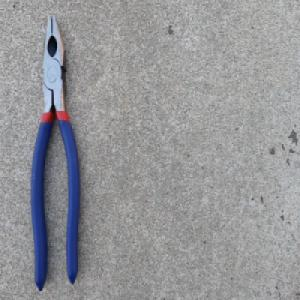Pliers: (30, 11, 81, 292)
